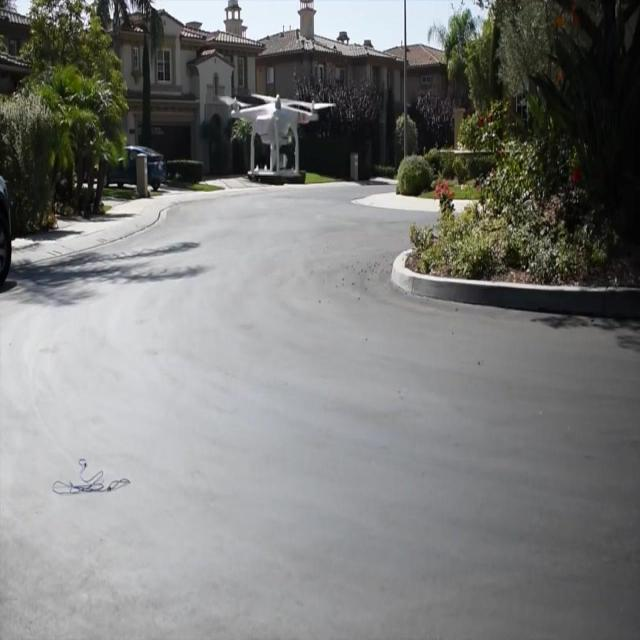drone: (224, 89, 328, 185)
